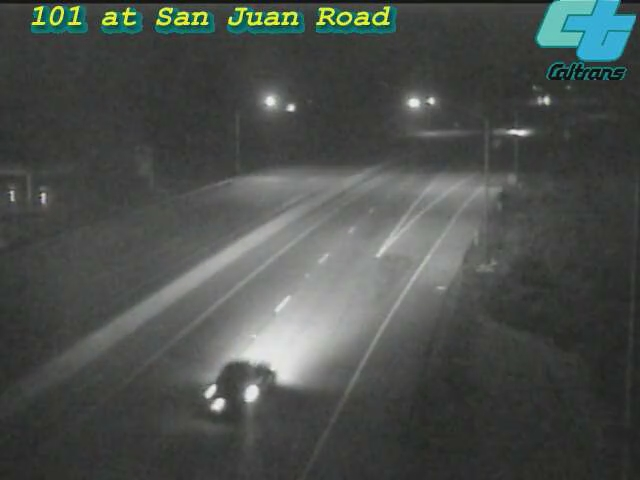vehicle: (185, 330, 295, 440), (489, 108, 539, 158)
